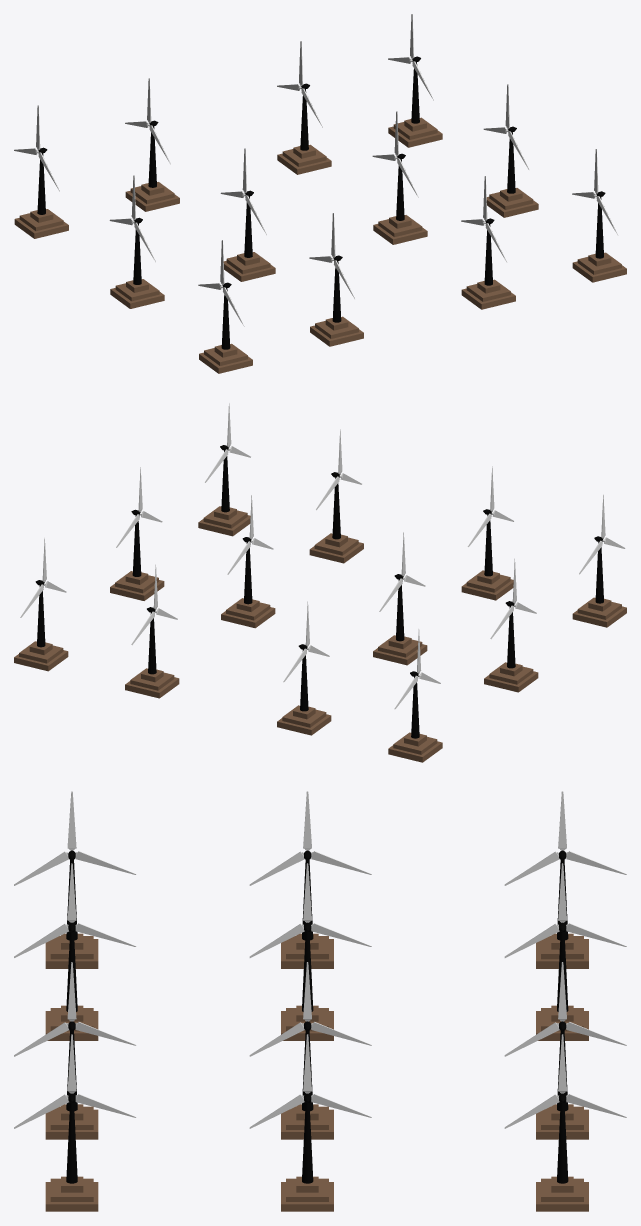
The model's file is wind mill.glb.
3 renders of one model, top to bottom at view 1: azimuth 30°, elevation 25°; view 2: azimuth 150°, elevation 25°; view 3: azimuth 270°, elevation 25°, orthographic. The views are drawn at different scales.
Parts seen in each view (by area): view 1: Cylinder.006; view 2: Cylinder.006; view 3: Cylinder.006.
Boxes of the visible parts, x1,y1,x2,y2 form: Cylinder.006: (14, 14, 626, 373); Cylinder.006: (14, 402, 626, 762); Cylinder.006: (14, 791, 626, 1211).
Bounding box in the file's own units: 45.42 × 13.11 × 44.36.
